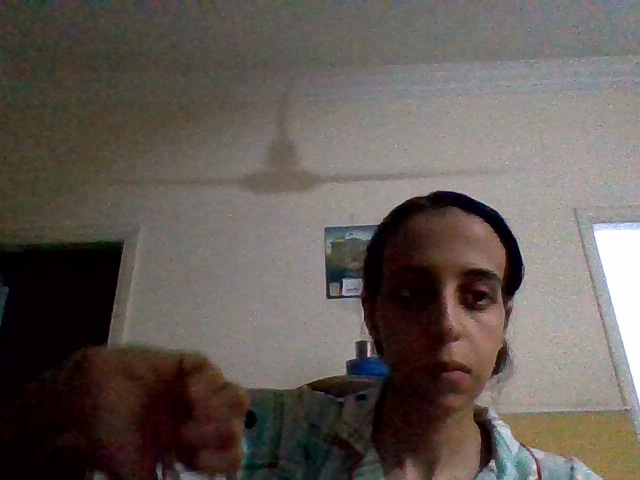ThumbsDown: (65, 341, 249, 480)
